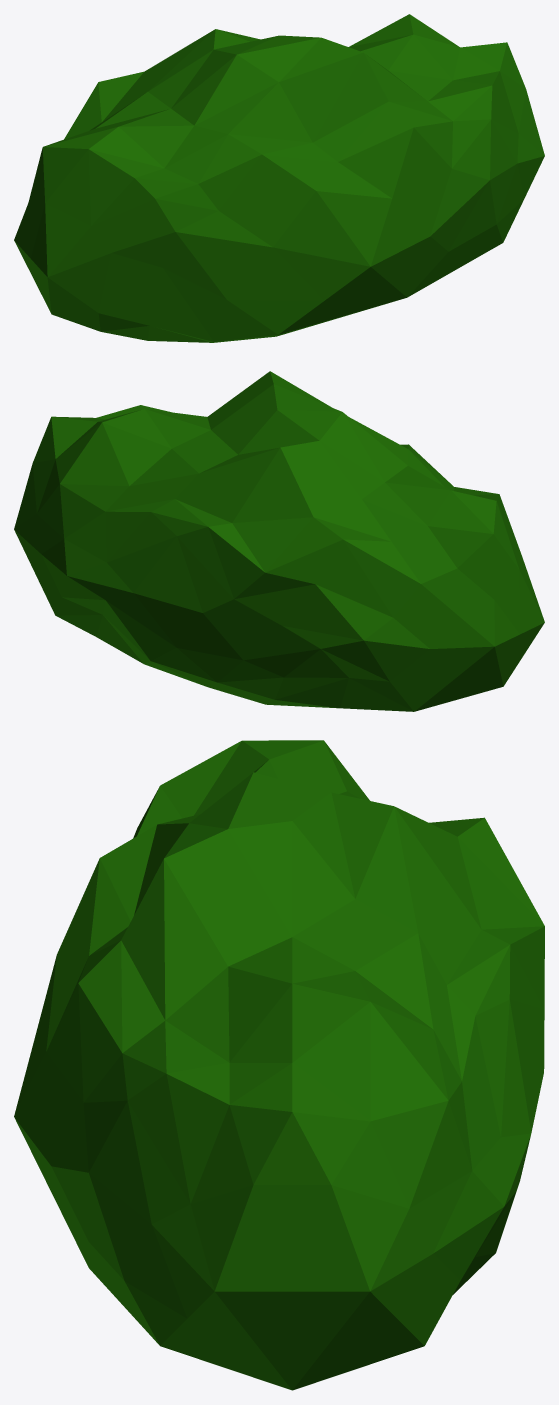
File: bush.fbx
3 renders of one model, top to bottom at view 1: azimuth 30°, elevation 25°; view 2: azimuth 150°, elevation 25°; view 3: azimuth 270°, elevation 25°, orthographic. The views are drawn at different scales.
Parts seen in each view (by area): view 1: Icosphere; view 2: Icosphere; view 3: Icosphere.
Part boxes in pixels (left/top/right/bottom): Icosphere: left=14, top=14, right=544, bottom=342; Icosphere: left=14, top=371, right=544, bottom=711; Icosphere: left=14, top=740, right=544, bottom=1390.
Bounding box in the file's own units: 379 × 208 × 211.
